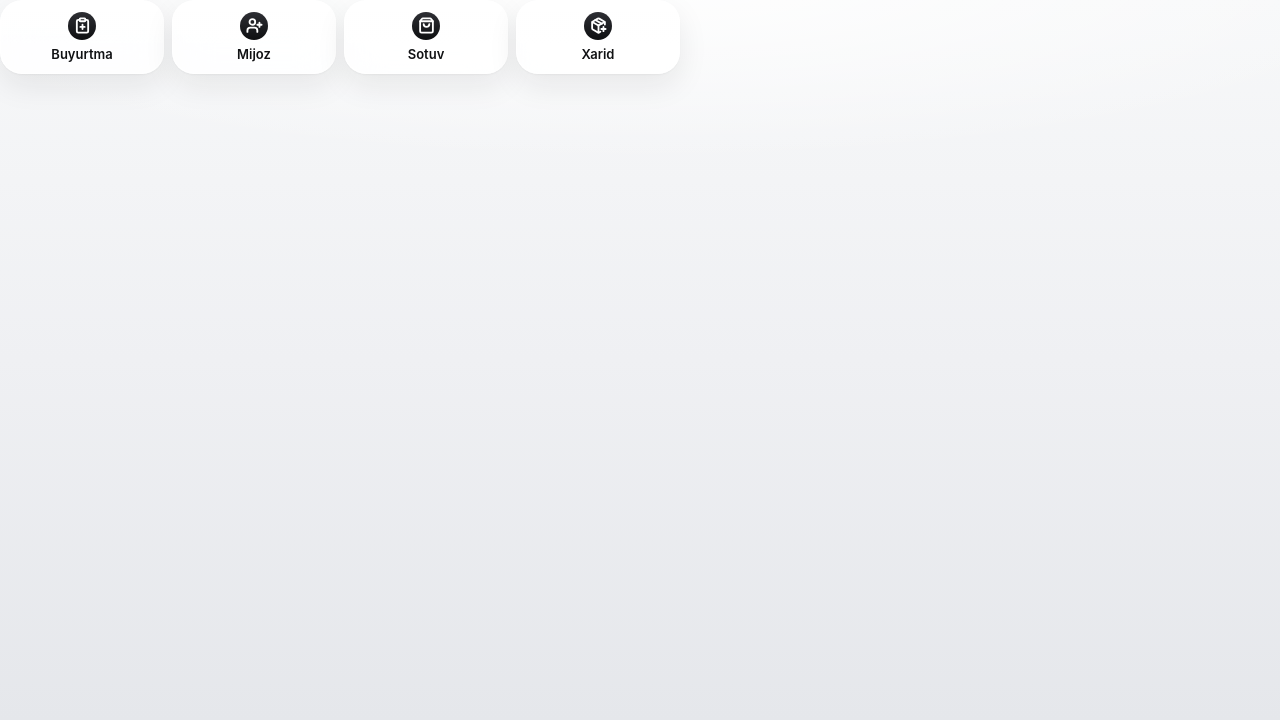
it: Buyurtma enters an order right from the home
This screenshot has width=1280, height=720.
Click the button "Buyurtma".
click(82, 37)  # box [0,0,164,74]
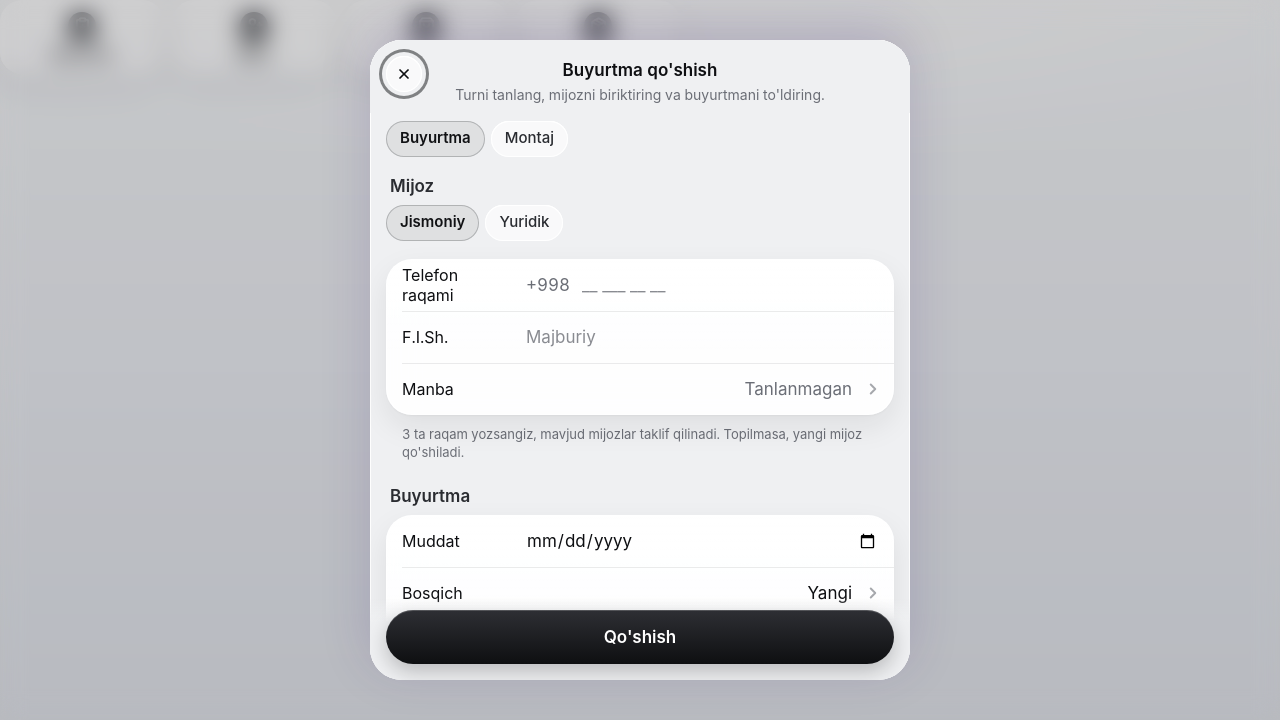
Now the dialog "Buyurtma qo'shish" is shown, box [370,40,910,680]
